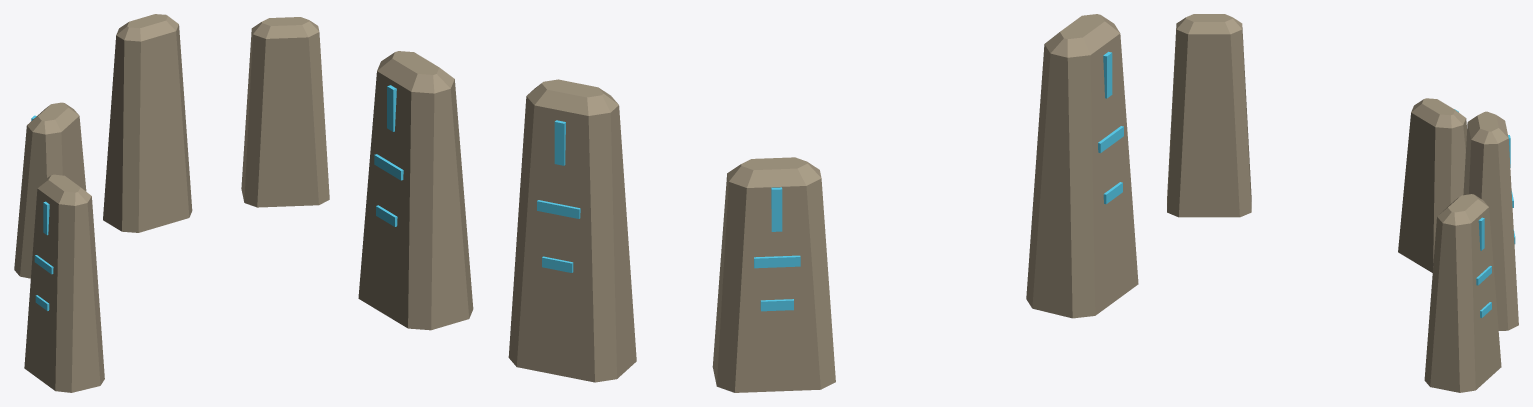
Rendered from BubbleDressA2.obj.
3 renders of one model, left to right at view 1: azimuth 30°, elevation 25°; view 2: azimuth 150°, elevation 25°; view 3: azimuth 270°, elevation 25°, orthographic. The views are drawn at different scales.
Visible parts, largest first — view 1: BubbleDressA2; view 2: BubbleDressA2; view 3: BubbleDressA2.
Part boxes in pixels (x1,y1,x2,y2): BubbleDressA2: (14,14,329,392); BubbleDressA2: (358,14,1138,392); BubbleDressA2: (1167,14,1518,392).
Size of the model in its own units: 1 by 0.45 by 0.7482.
